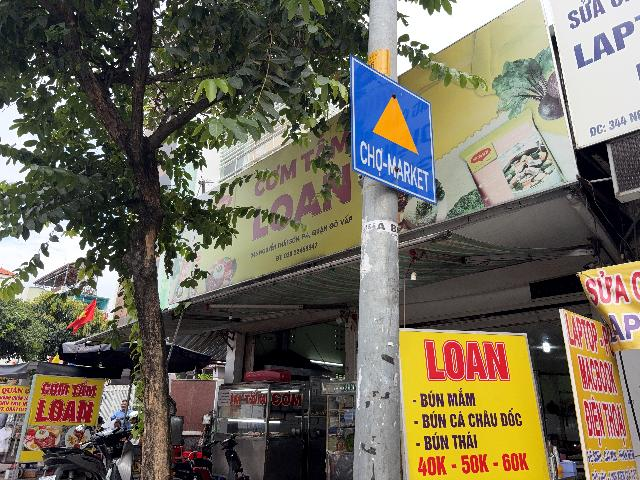khu-vuc-cho-phia-truoc: (350, 55, 437, 205)
